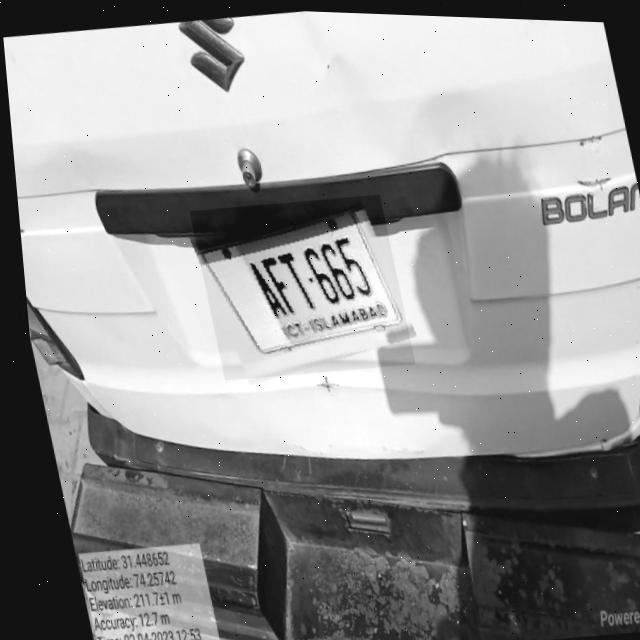LicensePlate: (184, 186, 411, 384)
